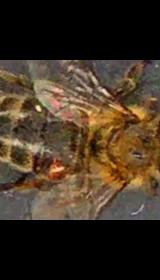varroa_mite: (44, 159, 68, 185)
